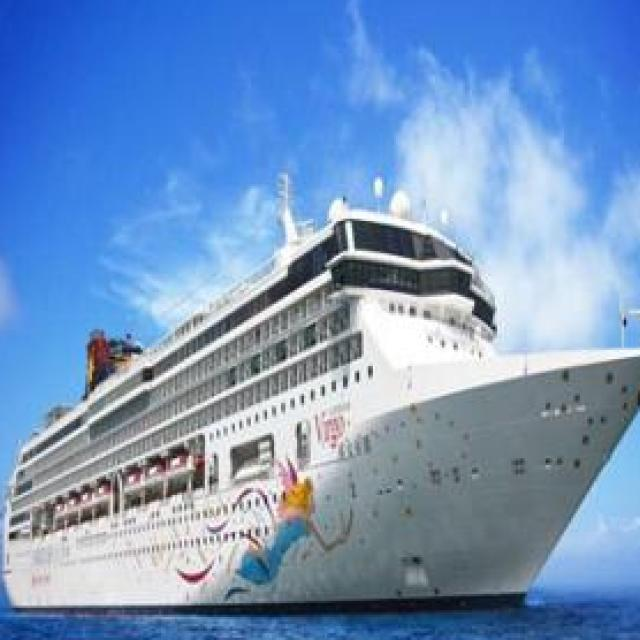passenger ship: (4, 193, 640, 600)
